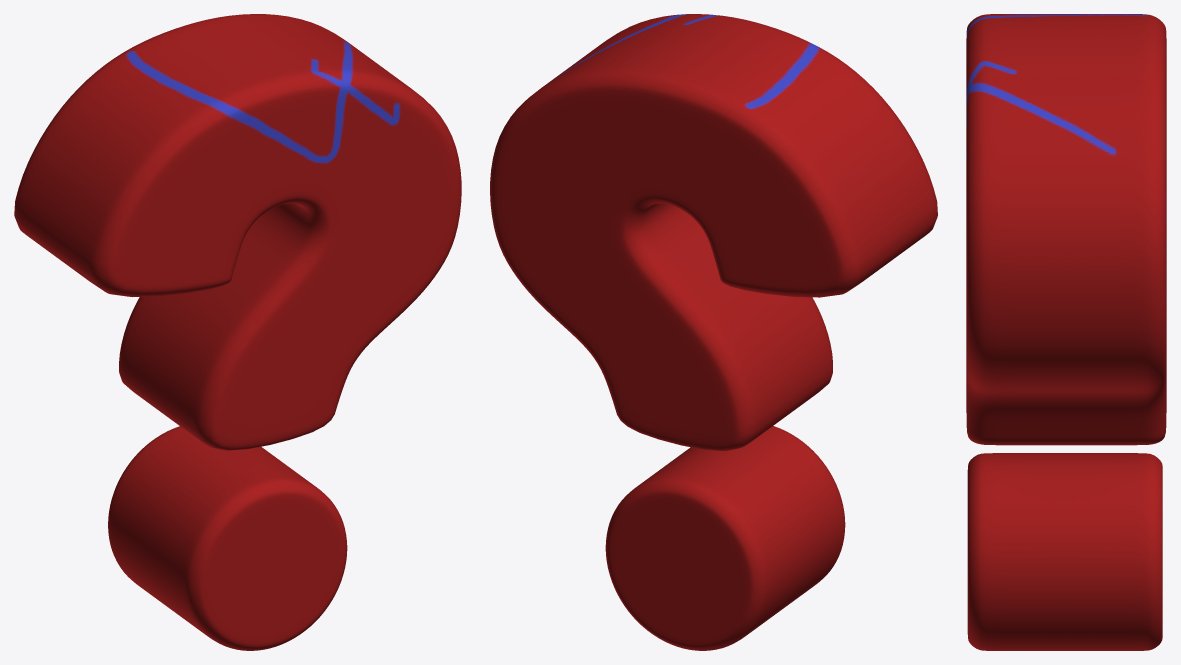
3 views of the same model, side by side, from view 1: azimuth 30°, elevation 25°; view 2: azimuth 150°, elevation 25°; view 3: azimuth 270°, elevation 25° (orthographic). The views are drawn at different scales.
Parts seen in each view (by area): view 1: node_id5; view 2: node_id5; view 3: node_id5.
Part boxes in pixels (x1,y1,x2,y2): node_id5: (14,14,461,650); node_id5: (490,14,937,650); node_id5: (966,14,1166,650).
Size of the model in its own units: 0.3487 by 0.512 by 0.1528.
1 material, 1 textured.
